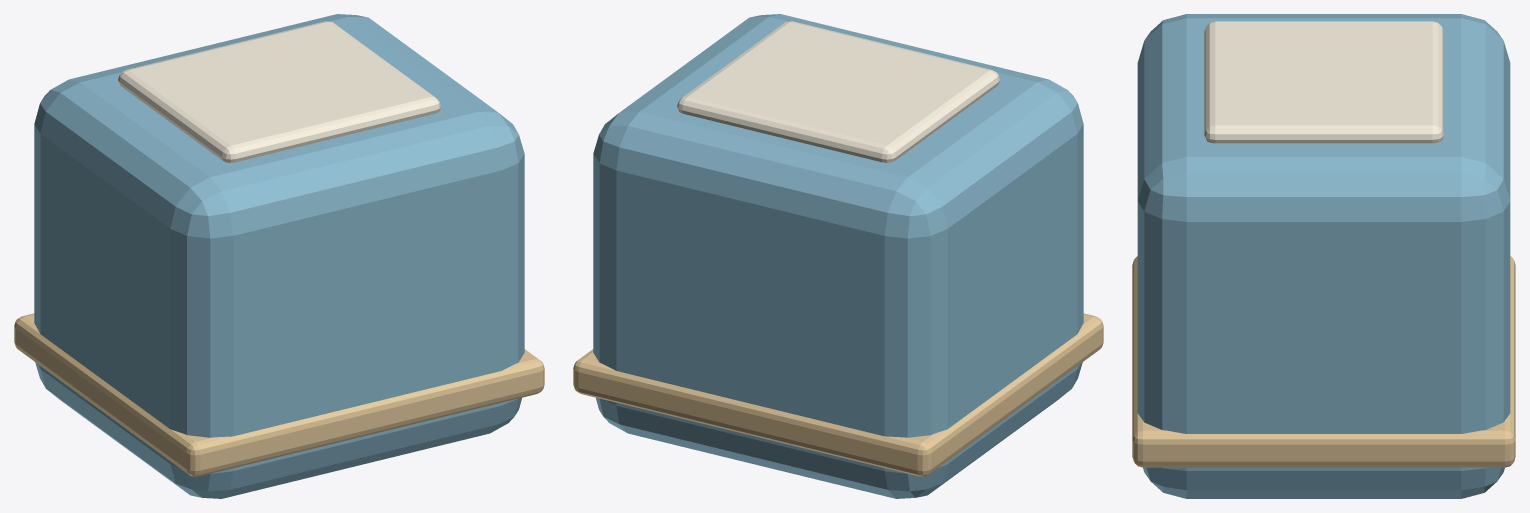
The model's file is cargo_blue.glb.
The picture shows the model from 3 angles, left to right: view 1: azimuth 30°, elevation 25°; view 2: azimuth 150°, elevation 25°; view 3: azimuth 270°, elevation 25°; orthographic projection. The views are drawn at different scales.
Visible parts, largest first — view 1: ASSET_CARGO_BLUE_CrateBody, ASSET_CARGO_BLUE_TopPlate, ASSET_CARGO_BLUE_LowerBand; view 2: ASSET_CARGO_BLUE_CrateBody, ASSET_CARGO_BLUE_TopPlate, ASSET_CARGO_BLUE_LowerBand; view 3: ASSET_CARGO_BLUE_CrateBody, ASSET_CARGO_BLUE_TopPlate, ASSET_CARGO_BLUE_LowerBand.
Part boxes in pixels (x1,y1,x2,y2): ASSET_CARGO_BLUE_CrateBody: [34, 14, 524, 498]; ASSET_CARGO_BLUE_TopPlate: [118, 21, 440, 162]; ASSET_CARGO_BLUE_LowerBand: [14, 313, 544, 476]; ASSET_CARGO_BLUE_CrateBody: [593, 14, 1083, 498]; ASSET_CARGO_BLUE_TopPlate: [677, 21, 999, 162]; ASSET_CARGO_BLUE_LowerBand: [573, 313, 1103, 476]; ASSET_CARGO_BLUE_CrateBody: [1137, 14, 1510, 498]; ASSET_CARGO_BLUE_TopPlate: [1204, 21, 1443, 143]; ASSET_CARGO_BLUE_LowerBand: [1132, 256, 1515, 467].
Bounding box in the file's own units: 0.492 × 0.4375 × 0.432.
